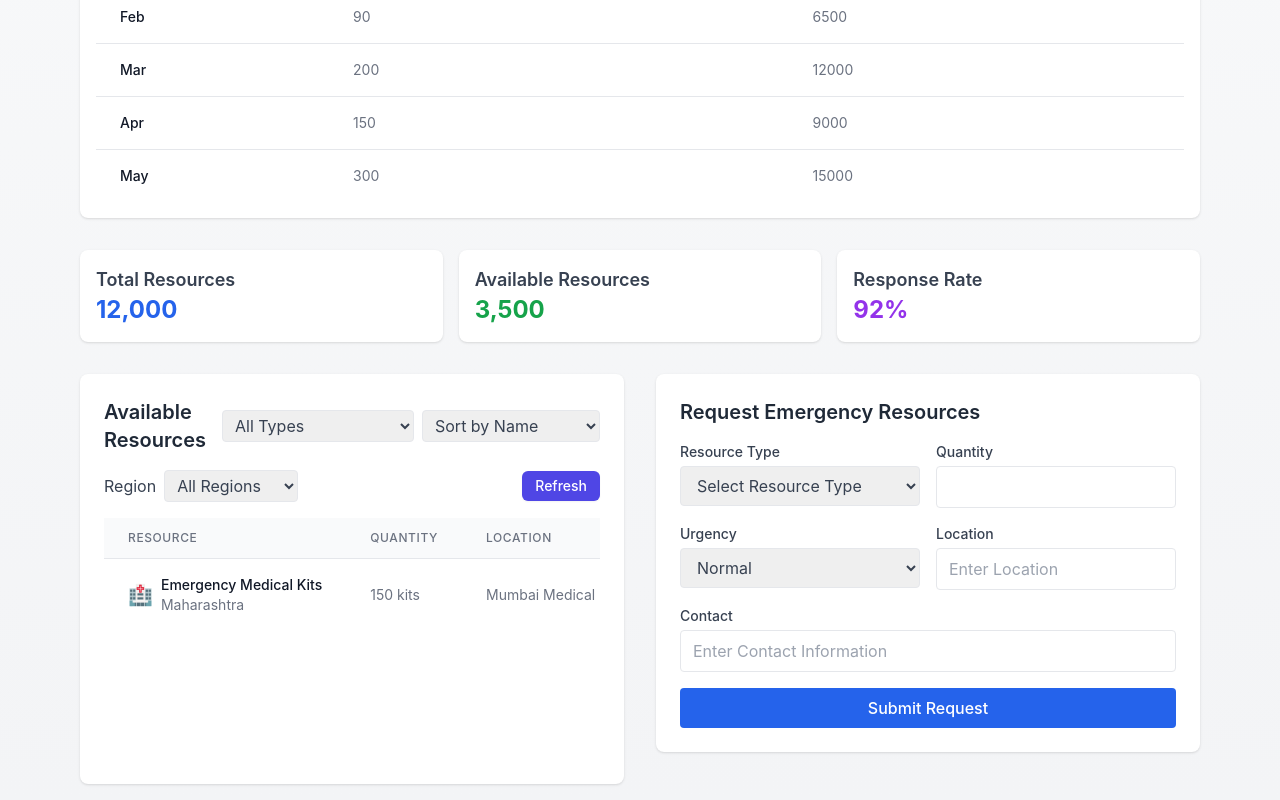
EmergencyResourceTracker Component › allows tracking resource requests
(page scrolled)
// First submit a request to have something to track
Select "🏥 Medical Supplies" in the dropdown labelled "Resource Type" at x=800, y=486, box [680, 466, 920, 506]
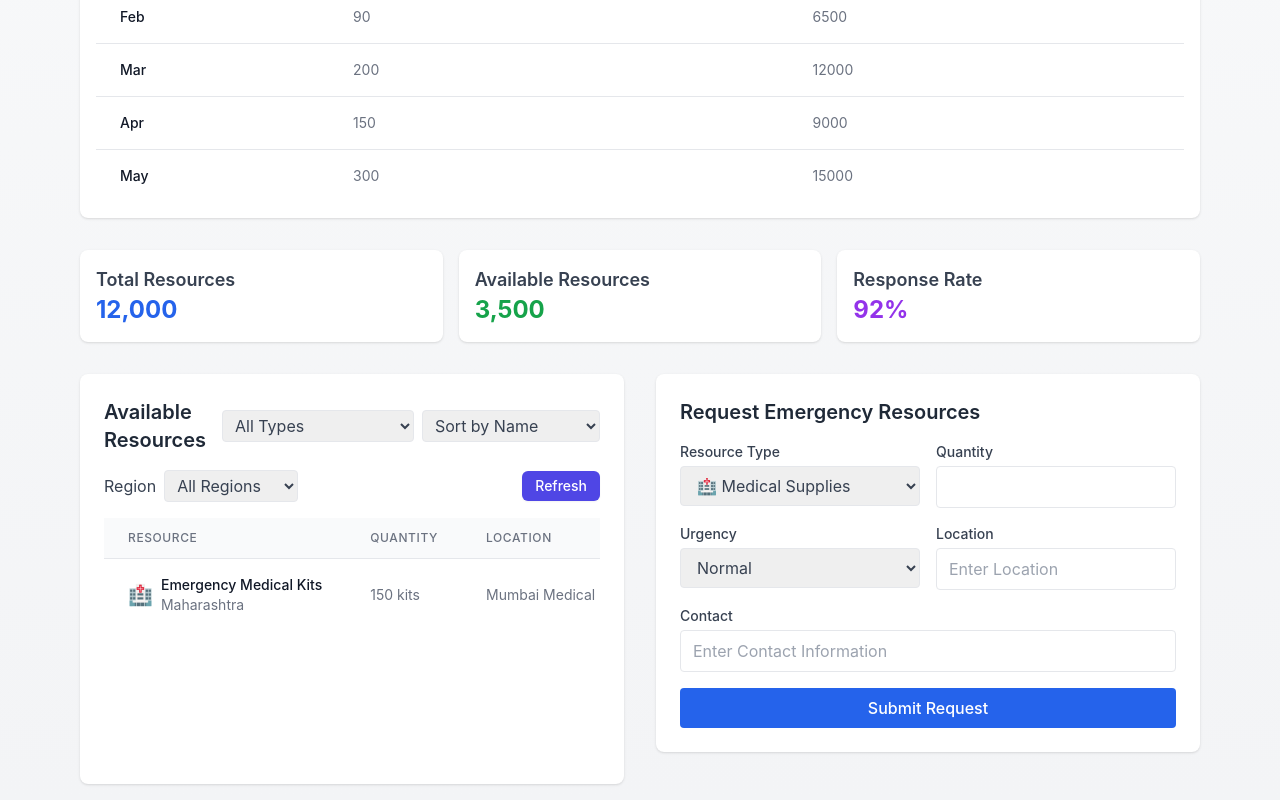
Type "100" into the number field labelled "Quantity" at x=1056, y=487, box [936, 466, 1176, 508]
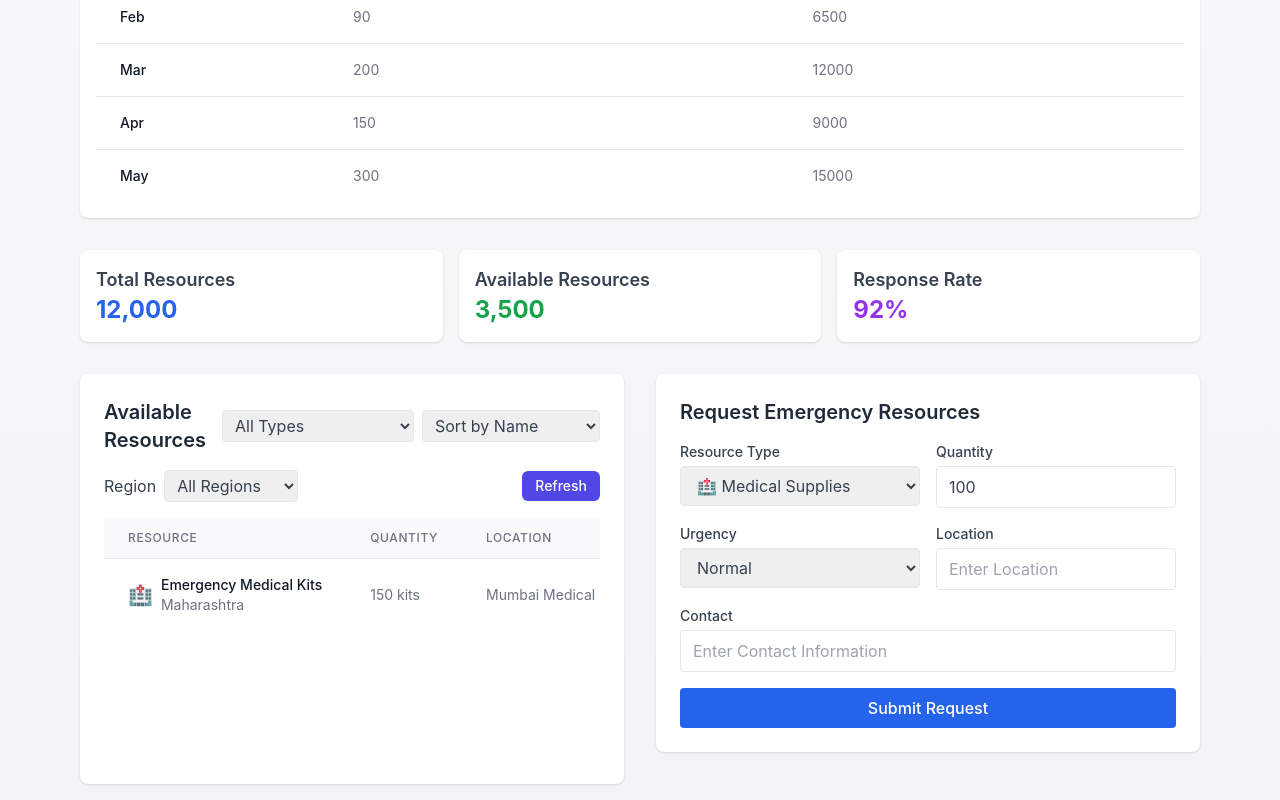
Type "Test Location" into the field labelled "Location" at x=1056, y=569, box [936, 548, 1176, 590]
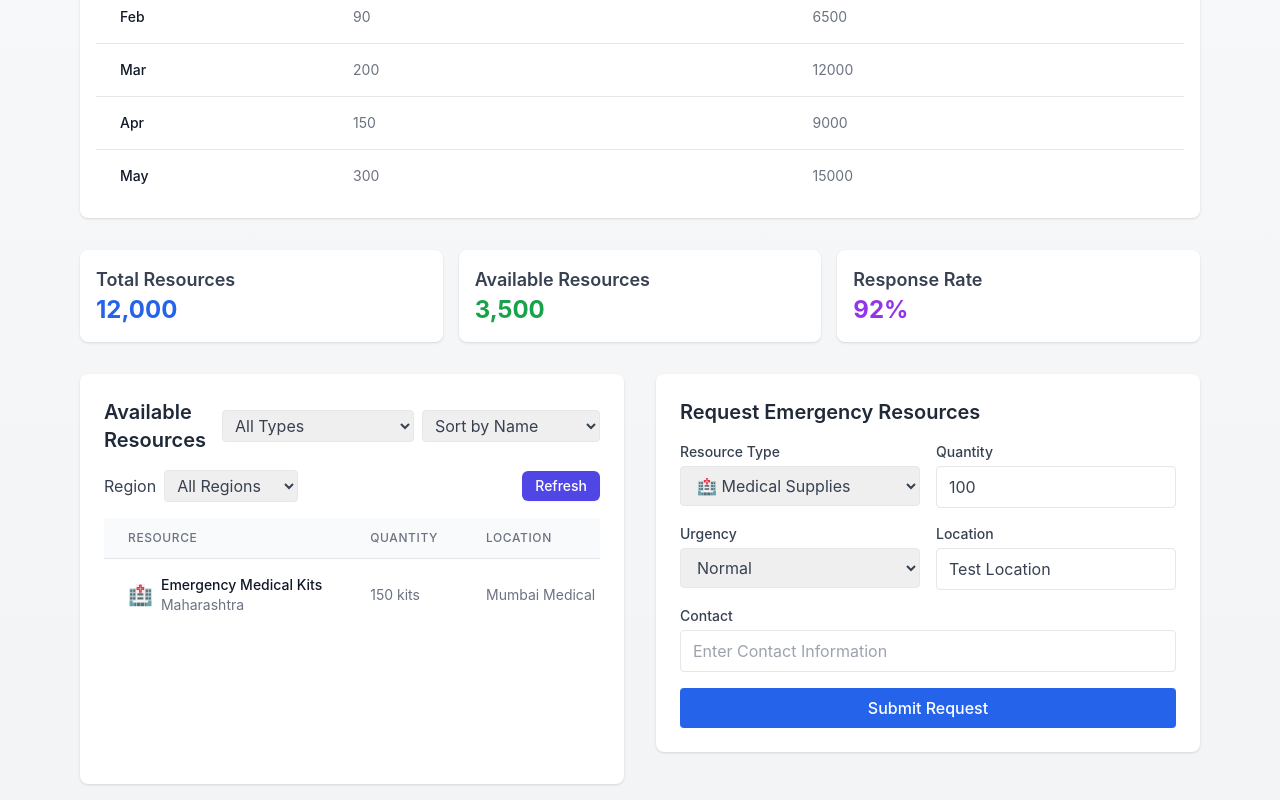
Type "+91-0000000000" into the field labelled "Contact" at x=928, y=651, box [680, 630, 1176, 672]
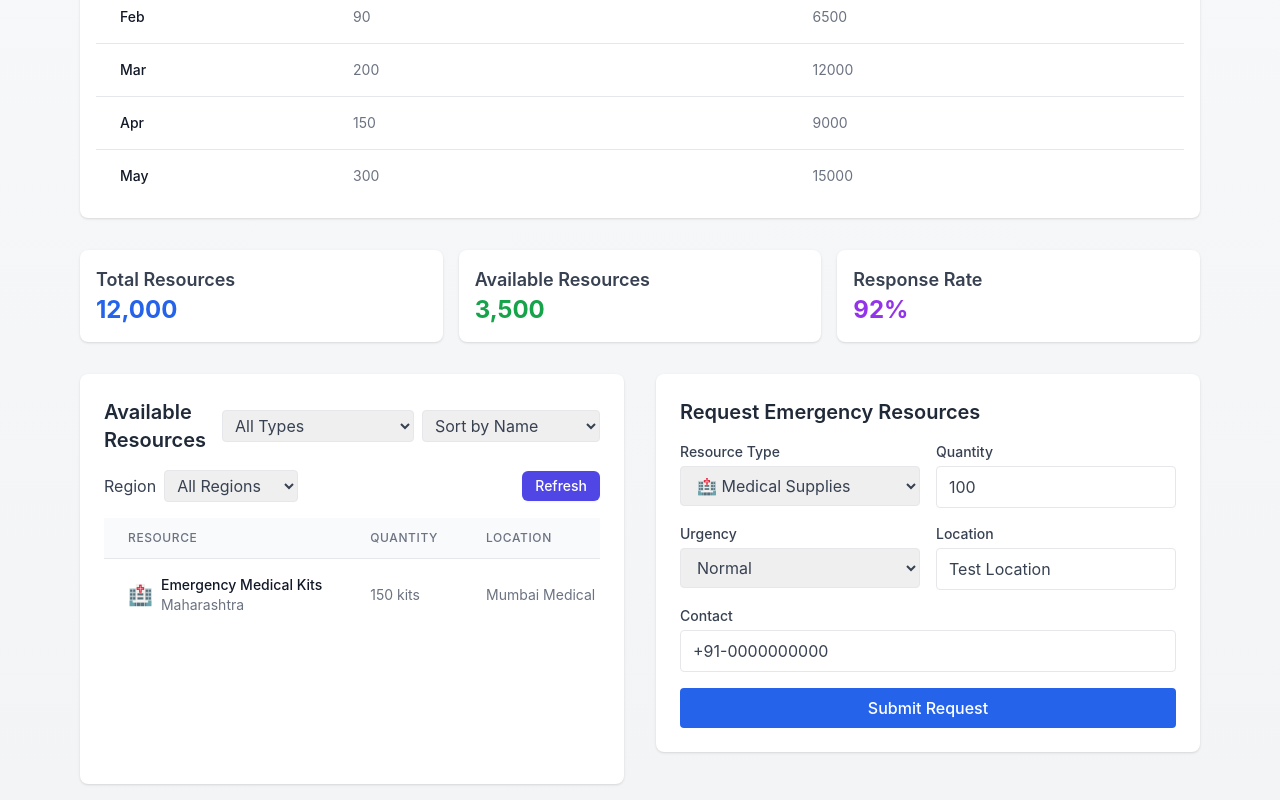
Click the button "Submit Request" at x=928, y=708, box [680, 688, 1176, 728]
(page scrolled)
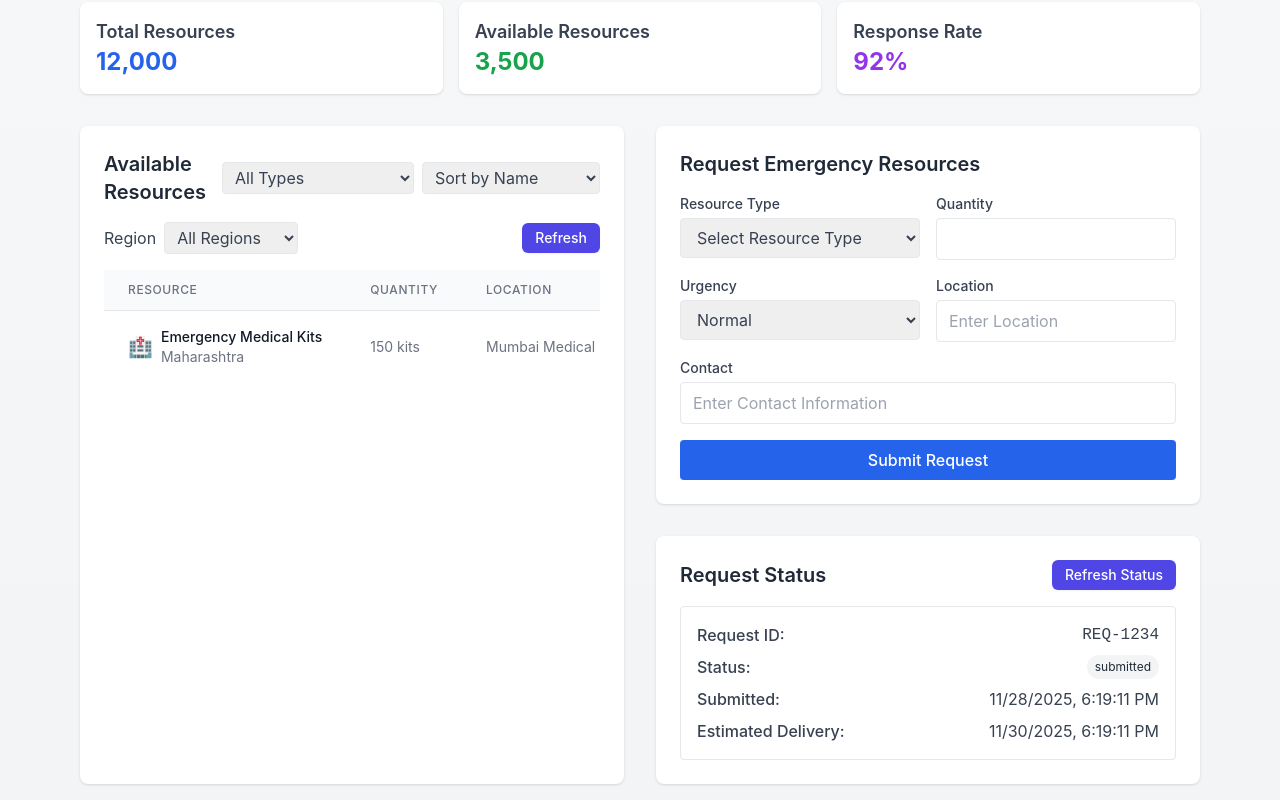
// Now track the request
Click the button "Refresh Status" at x=1114, y=575, box [1052, 560, 1176, 590]
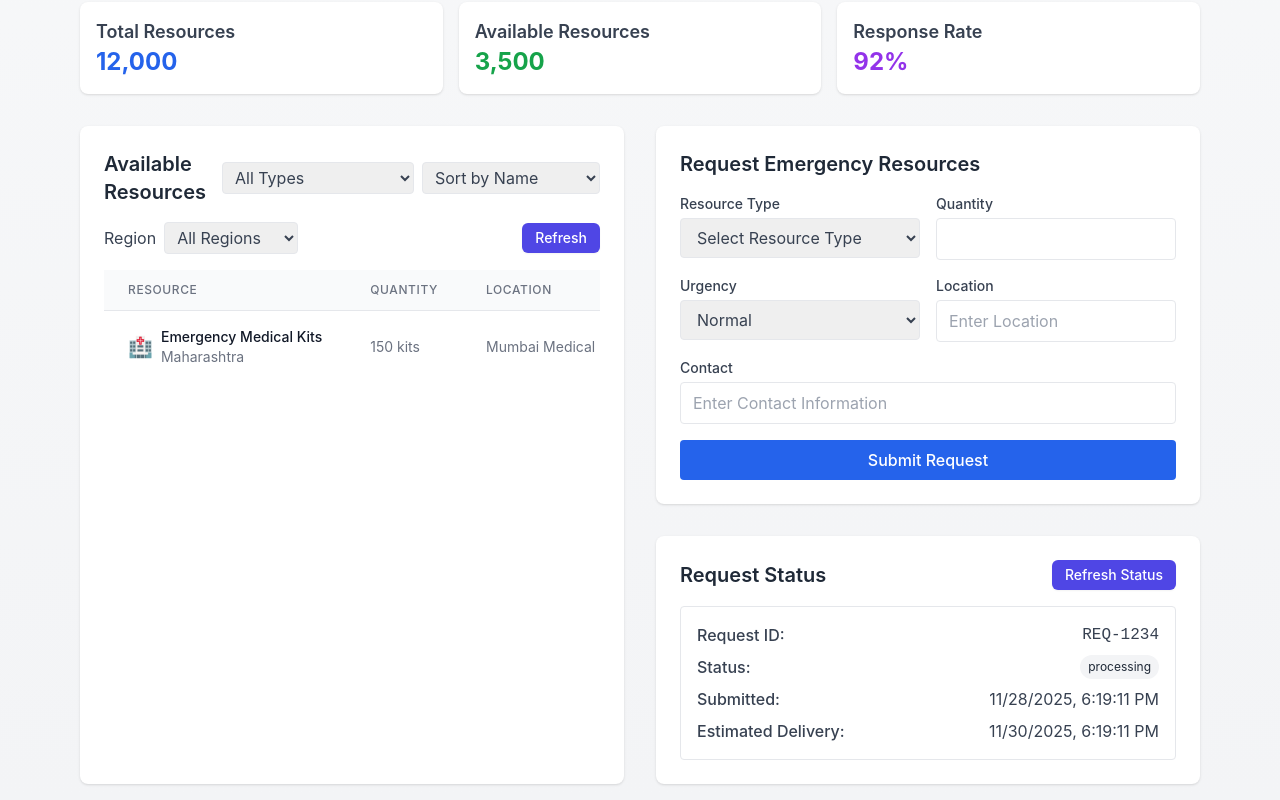
Expected: the text "processing" is shown, [1080, 655, 1159, 679]
